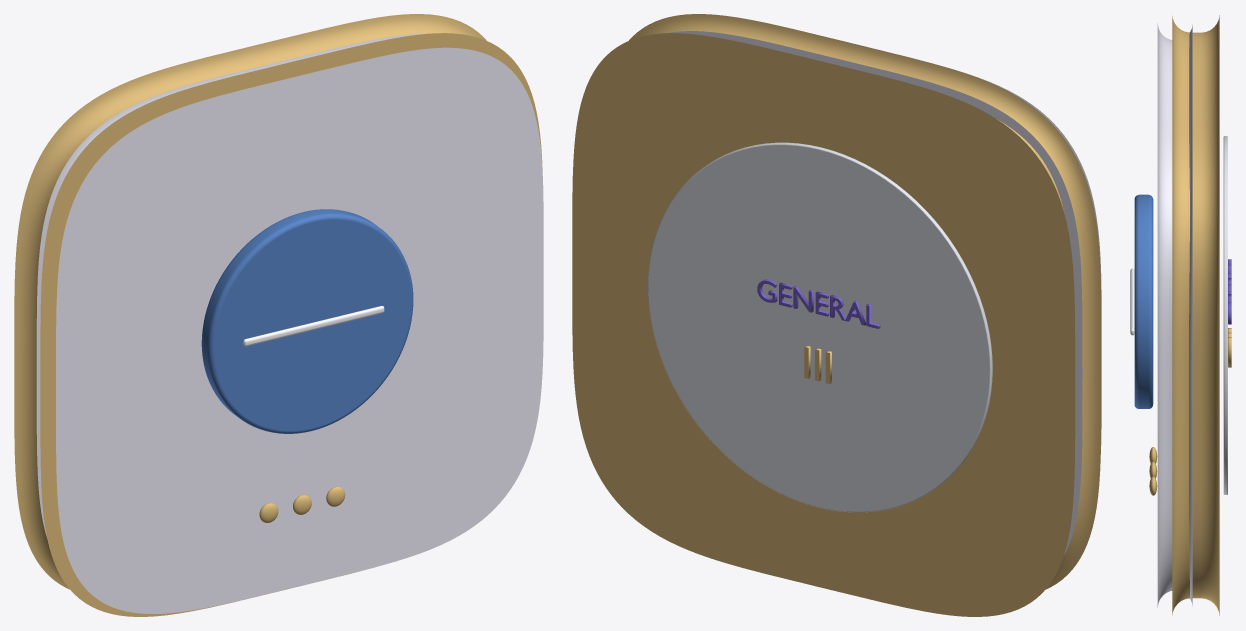
The model's file is ios-B-soft-otc-gold.glb.
3 renders of one model, left to right at view 1: azimuth 30°, elevation 25°; view 2: azimuth 150°, elevation 25°; view 3: azimuth 270°, elevation 25°, orthographic. The views are drawn at different scales.
Parts seen in each view (by area): view 1: Porcelain rounded-square face.006, Continuous-radius satin back.006, Tablet relief.003, Tablet score inlay.003; view 2: Continuous-radius satin back.006, Reverse center.006, Porcelain rounded-square face.006, Reverse category.006; view 3: Continuous-radius satin back.006, Porcelain rounded-square face.006, Tablet relief.003, Reverse center.006, Tablet score inlay.003, Reverse category.006.
Part boxes in pixels (left/top/right/bottom): Porcelain rounded-square face.006: left=36, top=33, right=543, bottom=613; Continuous-radius satin back.006: left=14, top=14, right=542, bottom=616; Tablet relief.003: left=201, top=209, right=413, bottom=433; Tablet score inlay.003: left=243, top=306, right=384, bottom=346; Continuous-radius satin back.006: left=572, top=14, right=1101, bottom=616; Reverse center.006: left=648, top=142, right=992, bottom=512; Porcelain rounded-square face.006: left=667, top=31, right=1101, bottom=554; Reverse category.006: left=757, top=279, right=880, bottom=328; Continuous-radius satin back.006: left=1149, top=15, right=1231, bottom=615; Porcelain rounded-square face.006: left=1157, top=23, right=1192, bottom=607; Tablet relief.003: left=1134, top=194, right=1153, bottom=408; Reverse center.006: left=1223, top=136, right=1227, bottom=494; Tablet score inlay.003: left=1130, top=268, right=1134, bottom=335; Reverse category.006: left=1228, top=259, right=1231, bottom=324.
Size of the model in its own units: 2.11 by 2.11 by 0.406.
